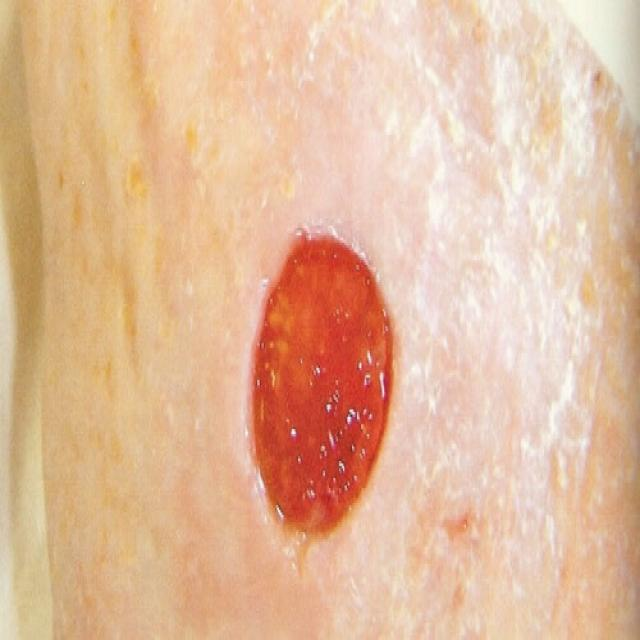stage-3: (251, 228, 389, 533)
